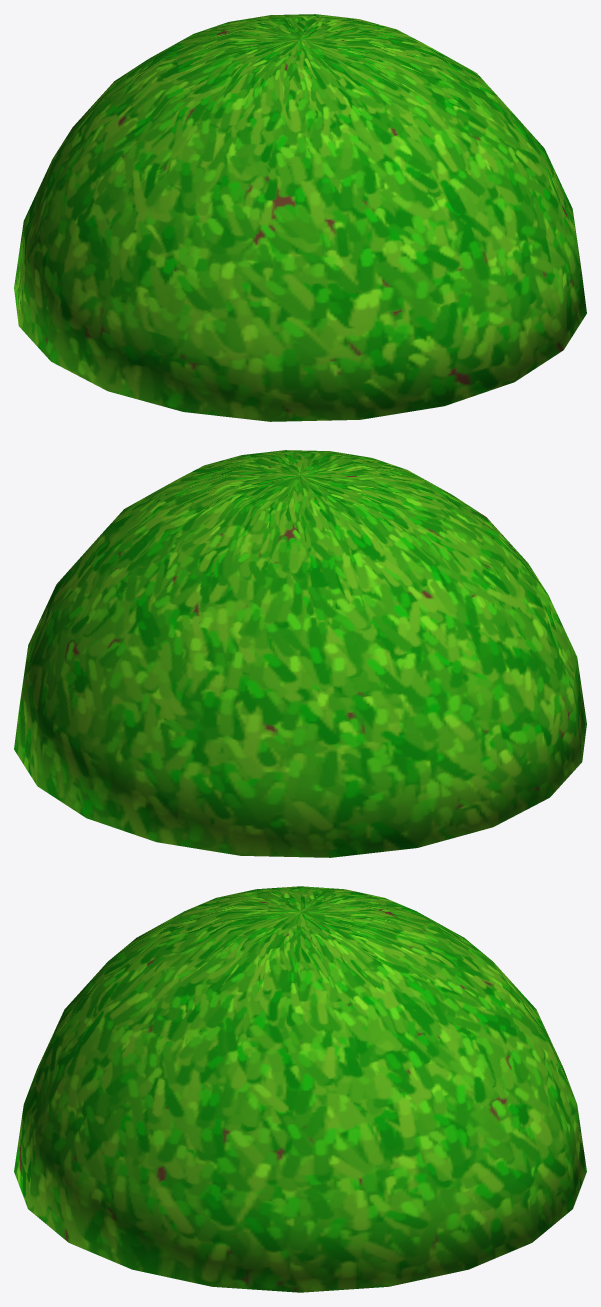
The model's file is bush.fbx.
3 renders of one model, top to bottom at view 1: azimuth 30°, elevation 25°; view 2: azimuth 150°, elevation 25°; view 3: azimuth 270°, elevation 25°, orthographic.
Visible parts, largest first — view 1: Sphere; view 2: Sphere; view 3: Sphere.
Boxes of the visible parts, left/top/right/bottom form: Sphere: left=14, top=14, right=586, bottom=421; Sphere: left=14, top=450, right=586, bottom=857; Sphere: left=14, top=886, right=586, bottom=1292.
Size of the model in its own units: 99.84 by 49.92 by 99.84.
Materials: 1 (1 with a texture image).
